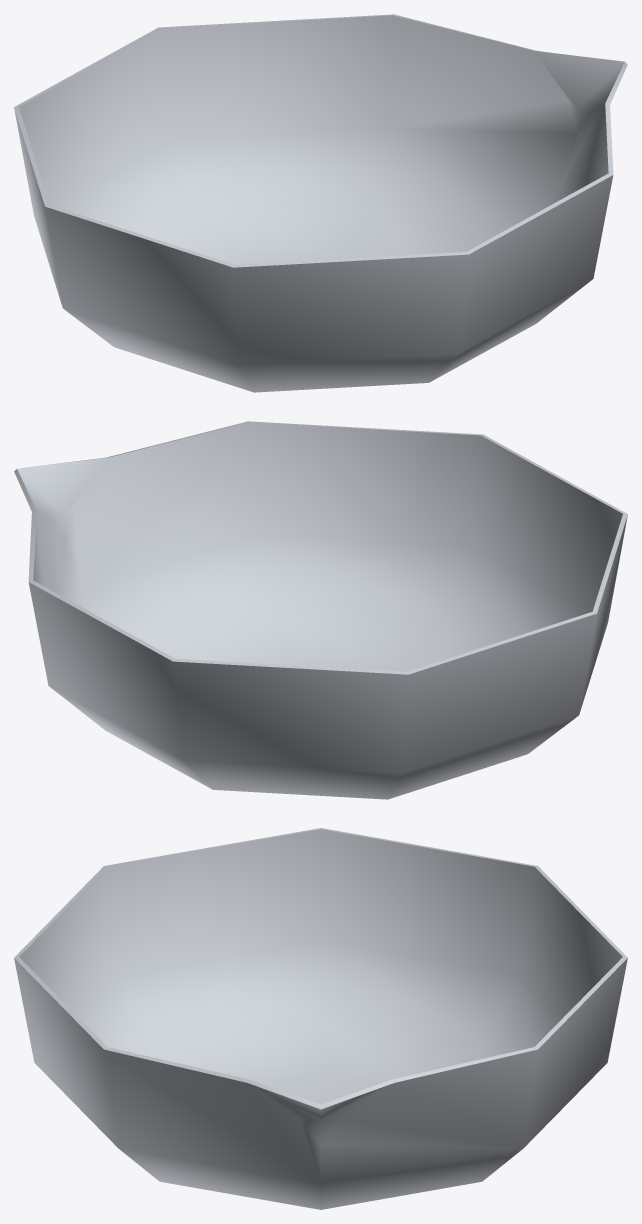
The model's file is dish_evaporating_dish.fbx.
The picture shows the model from 3 angles, top to bottom: view 1: azimuth 30°, elevation 25°; view 2: azimuth 150°, elevation 25°; view 3: azimuth 270°, elevation 25°; orthographic projection.
Visible parts, largest first — view 1: dish_evaporating_dish; view 2: dish_evaporating_dish; view 3: dish_evaporating_dish.
Part boxes in pixels (x1,y1,x2,y2): dish_evaporating_dish: (14, 14, 627, 392); dish_evaporating_dish: (14, 421, 627, 799); dish_evaporating_dish: (14, 828, 627, 1209).
Bounding box in the file's own units: 1410 × 422 × 1300.
Materials: 1 (1 with a texture image).
